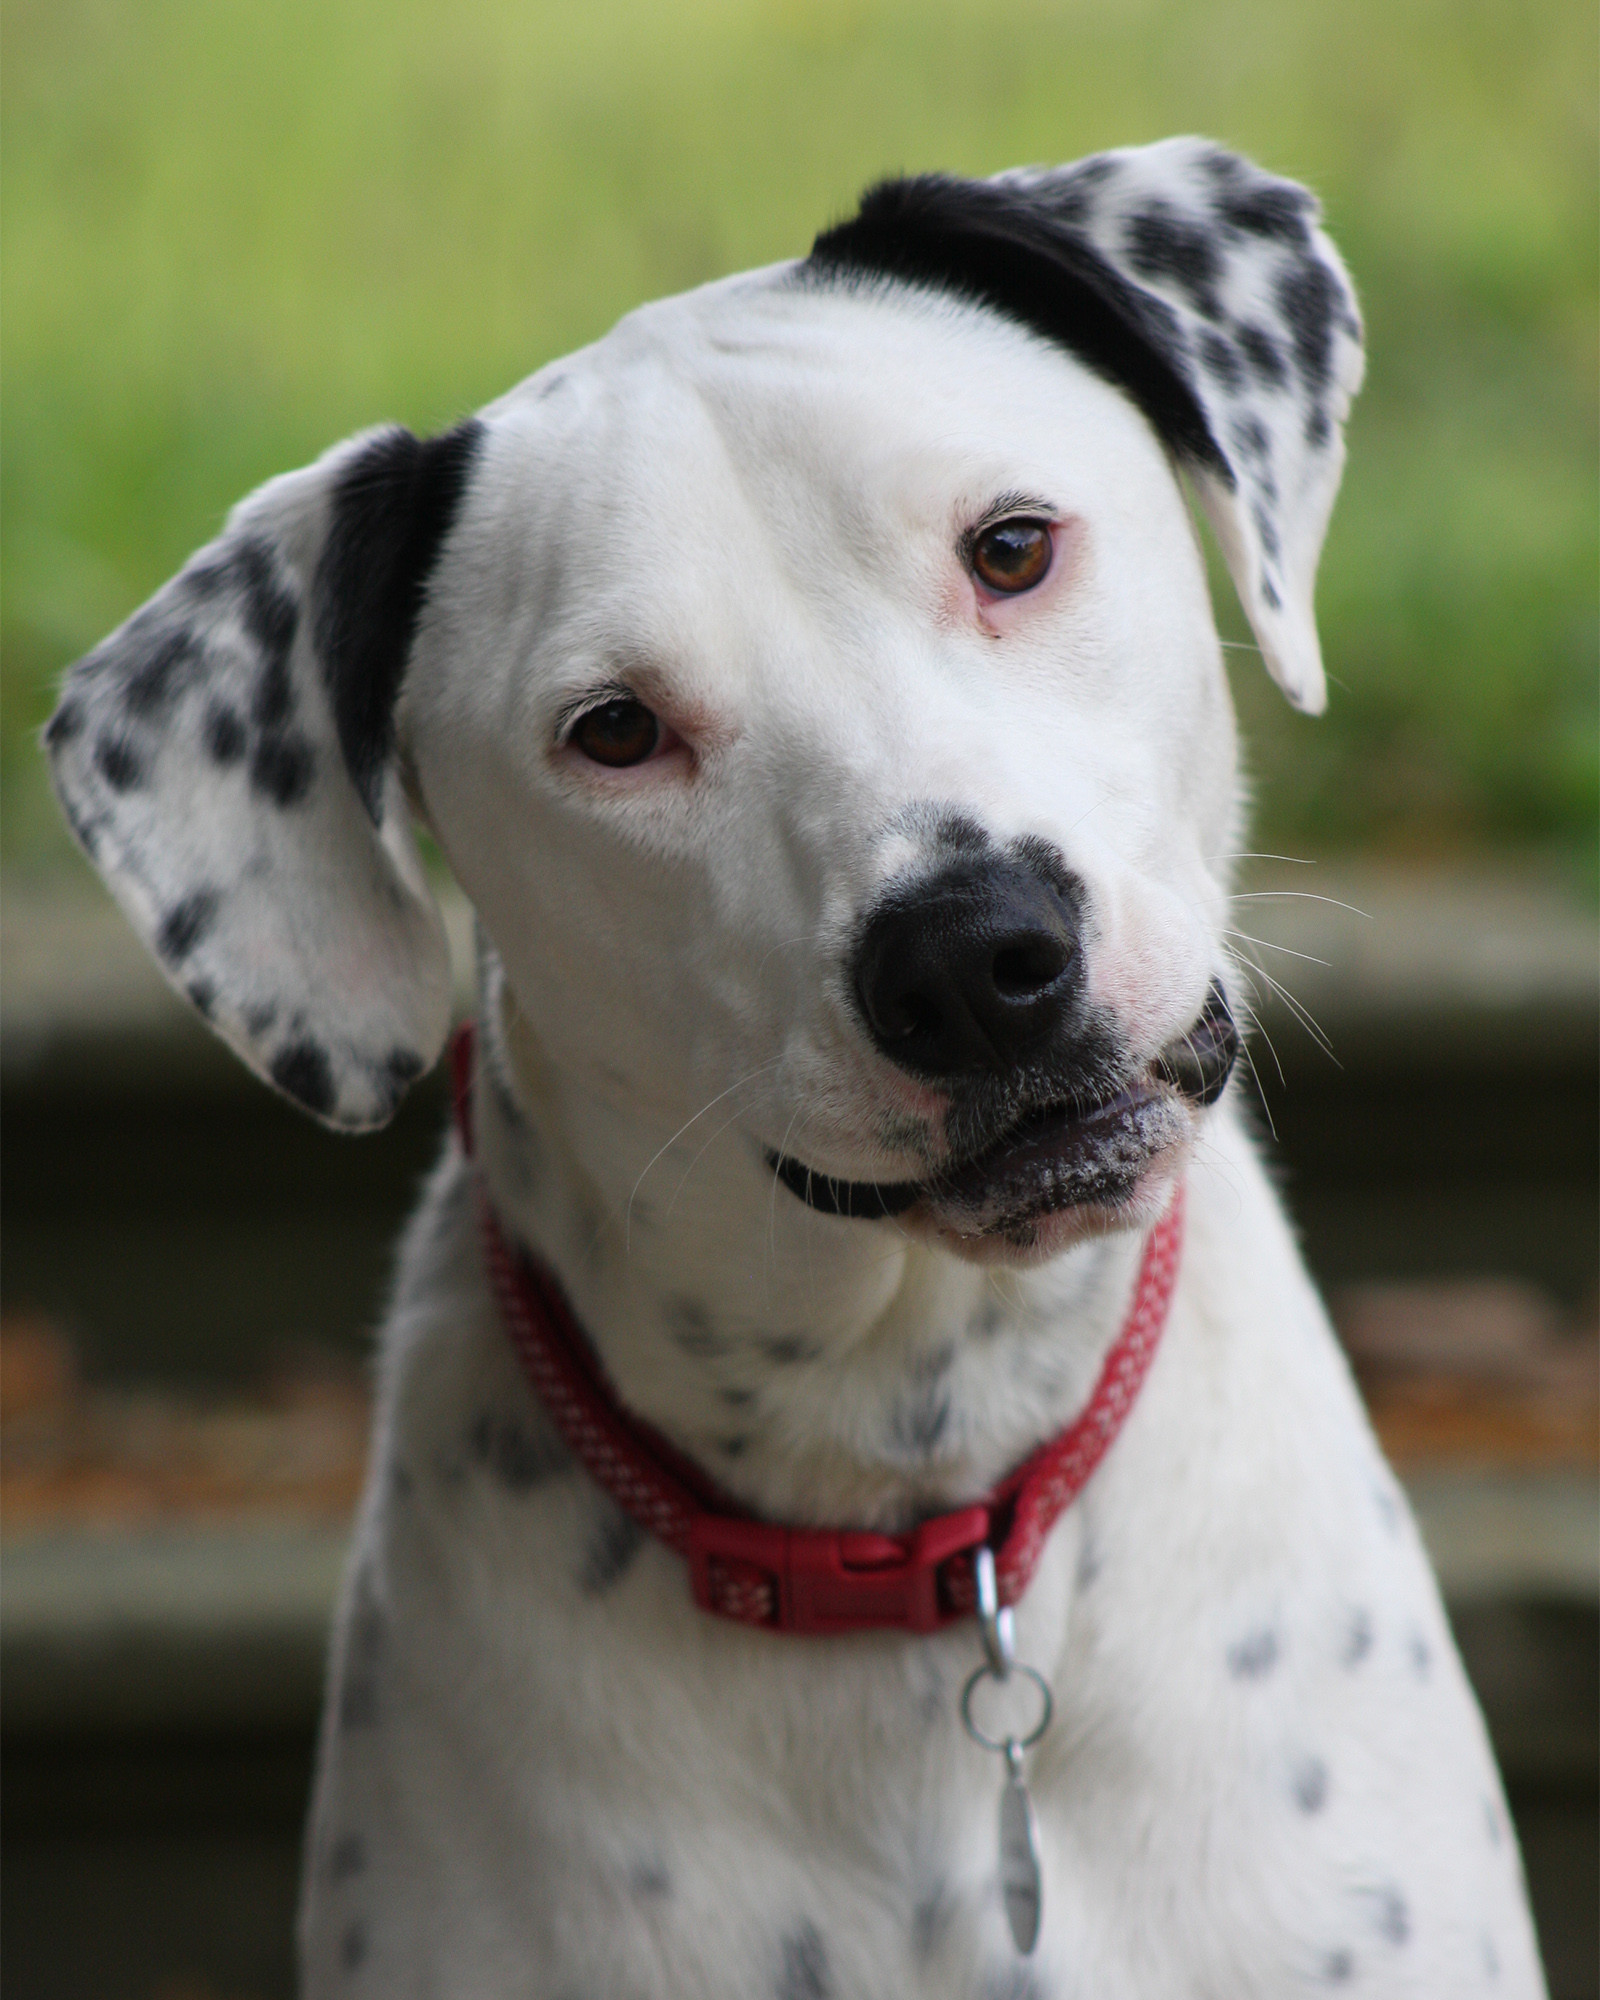dog: (73, 140, 1546, 2000)
